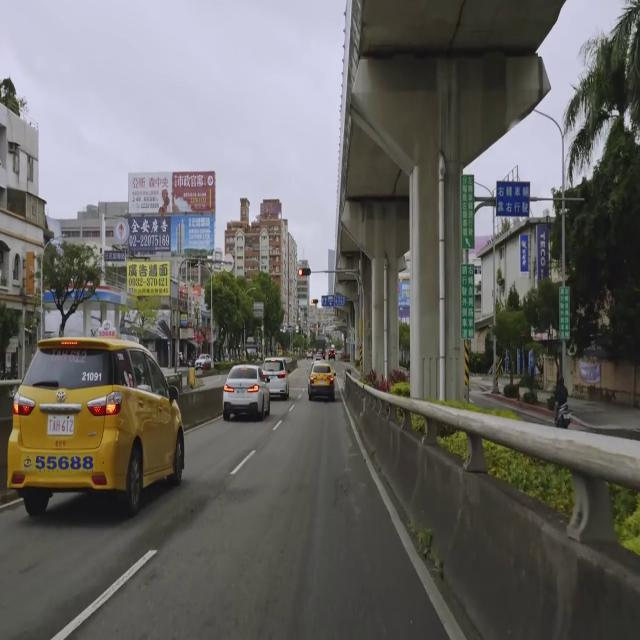red light: (298, 268, 310, 276), (310, 298, 318, 305)
